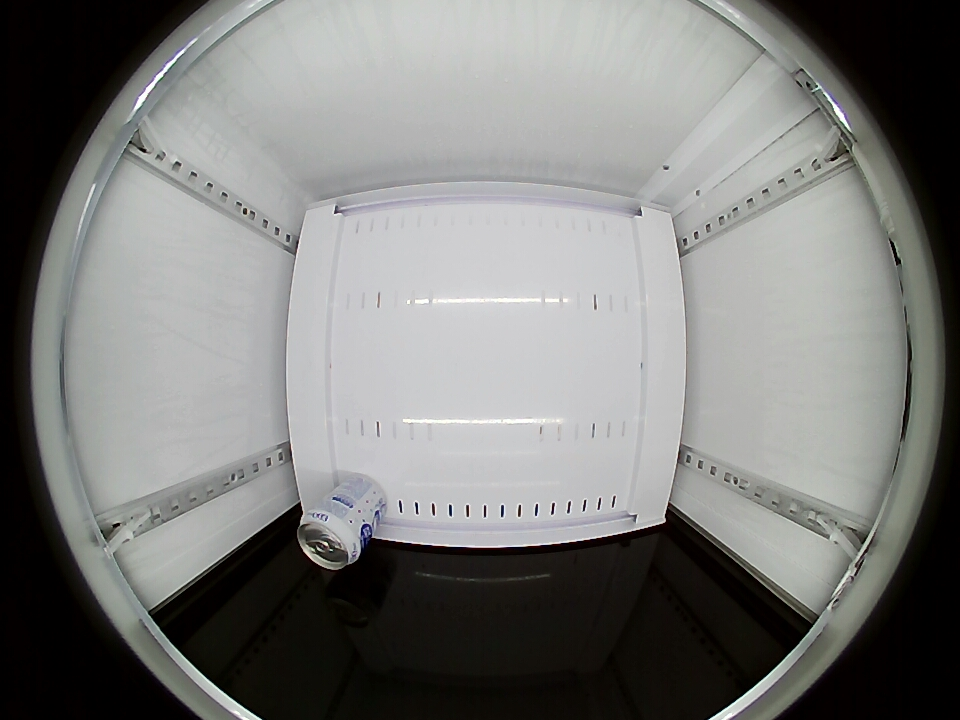rusuanjunqishui: (297, 505, 368, 570)
